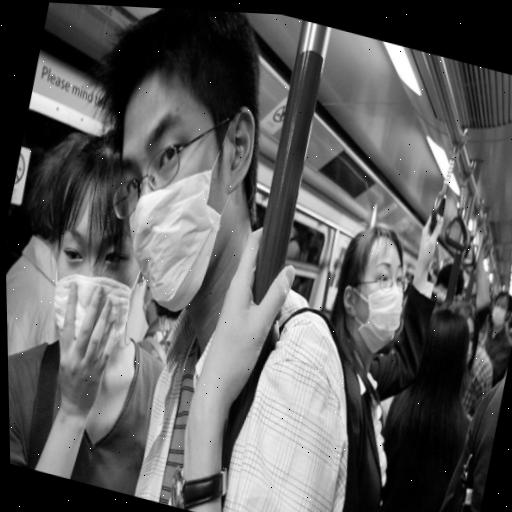mask: (57, 3, 297, 339), (32, 124, 171, 364), (321, 217, 421, 362), (487, 285, 512, 334)
